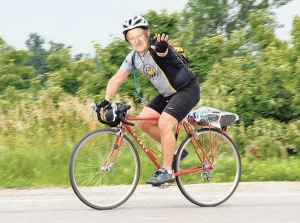with_helmet: (121, 14, 148, 27)
